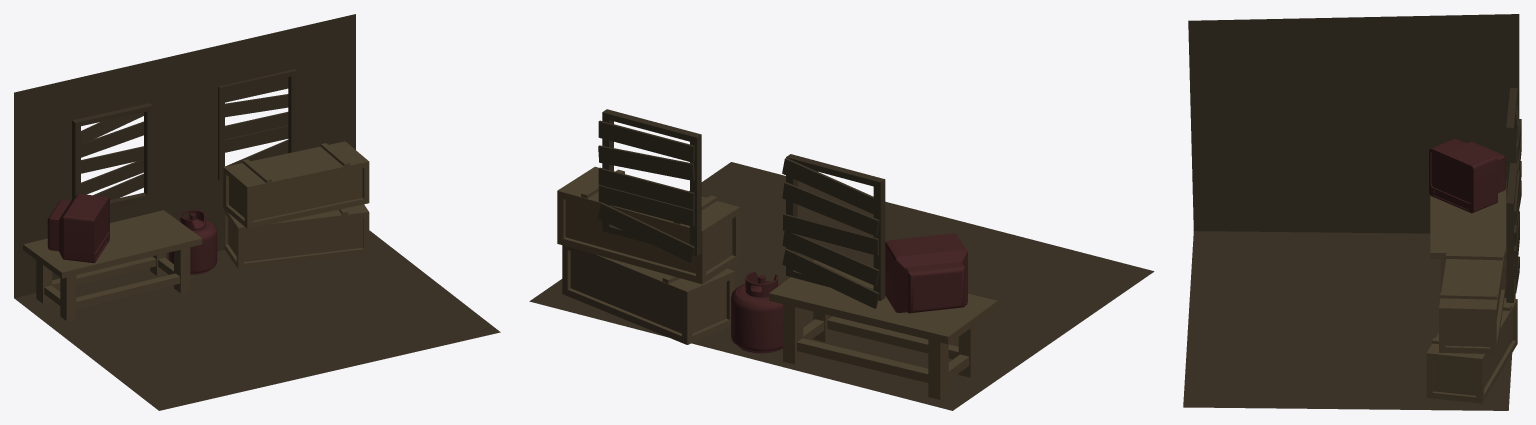
The picture shows the model from 3 angles, left to right: view 1: azimuth 30°, elevation 25°; view 2: azimuth 150°, elevation 25°; view 3: azimuth 270°, elevation 25°; orthographic projection. The views are drawn at different scales.
Visible parts, largest first — view 1: low_poly_house, low_poly_table, low_poly_crate2, low_poly_crate1, low_poly_tv, low_poly_gas_tank; view 2: low_poly_house, low_poly_table, low_poly_crate1, low_poly_crate2, low_poly_tv, low_poly_gas_tank; view 3: low_poly_house, low_poly_crate2, low_poly_tv, low_poly_crate1, low_poly_table.
Part boxes in pixels (x1,y1,x2,y2): low_poly_house: [14, 14, 500, 410]; low_poly_table: [23, 210, 202, 320]; low_poly_crate2: [223, 141, 369, 228]; low_poly_crate1: [224, 204, 369, 269]; low_poly_tv: [47, 193, 109, 263]; low_poly_gas_tank: [168, 210, 217, 274]; low_poly_house: [529, 109, 1154, 410]; low_poly_table: [769, 260, 997, 399]; low_poly_crate1: [562, 245, 734, 344]; low_poly_crate2: [557, 166, 739, 284]; low_poly_tv: [885, 233, 967, 313]; low_poly_gas_tank: [731, 271, 782, 353]; low_poly_house: [1183, 14, 1521, 410]; low_poly_crate2: [1439, 246, 1505, 354]; low_poly_tv: [1429, 138, 1505, 213]; low_poly_crate1: [1426, 298, 1517, 403]; low_poly_table: [1430, 180, 1506, 292].
Bounding box in the file's own units: 19.35 × 11.15 × 15.4.
